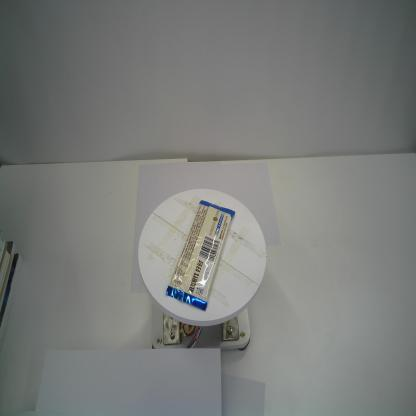Chocolate: (165, 200, 235, 312)
